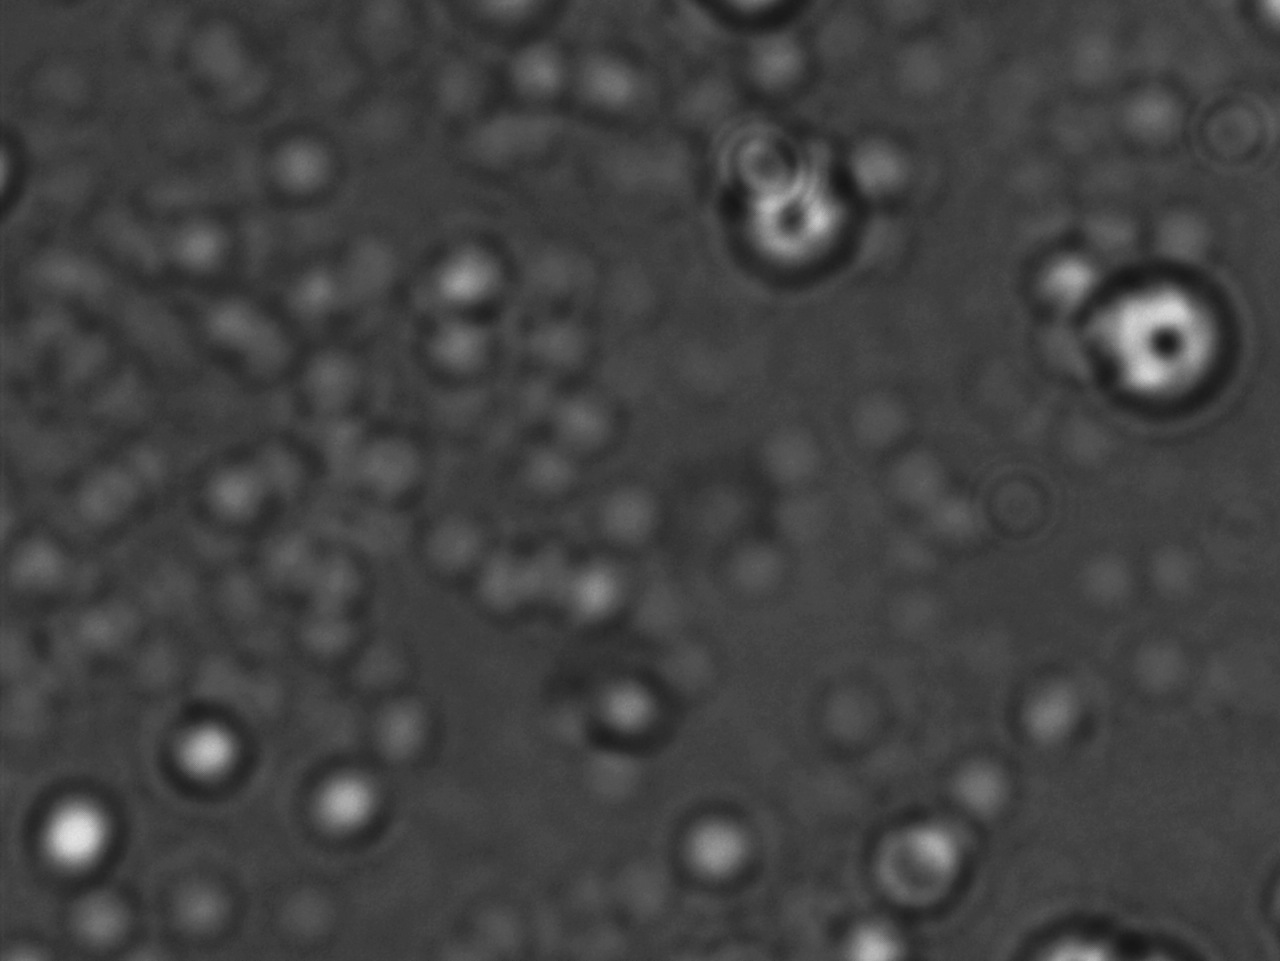depth:24: (1092, 261, 1245, 409)
